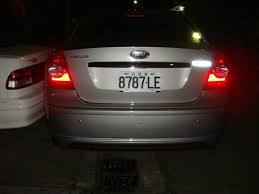LP: (117, 69, 160, 91)
